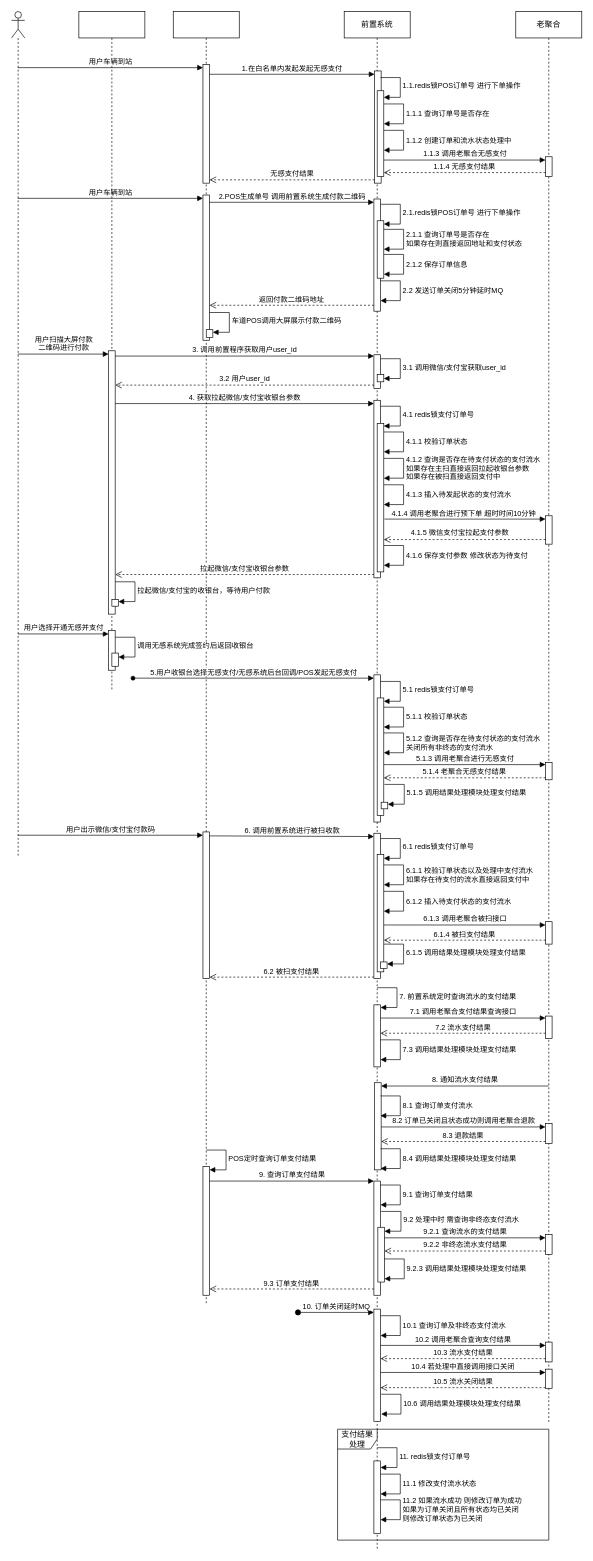
This 593x1561 diagram has some shape labels left out. The shapes that lost their labels are listed below. From the top down, each one's box as (x1, y1, x2, y2) in pixels, then its label:
(78, 11, 145, 691): 小程序收银台
(173, 11, 239, 1305): 车道POS+大屏
